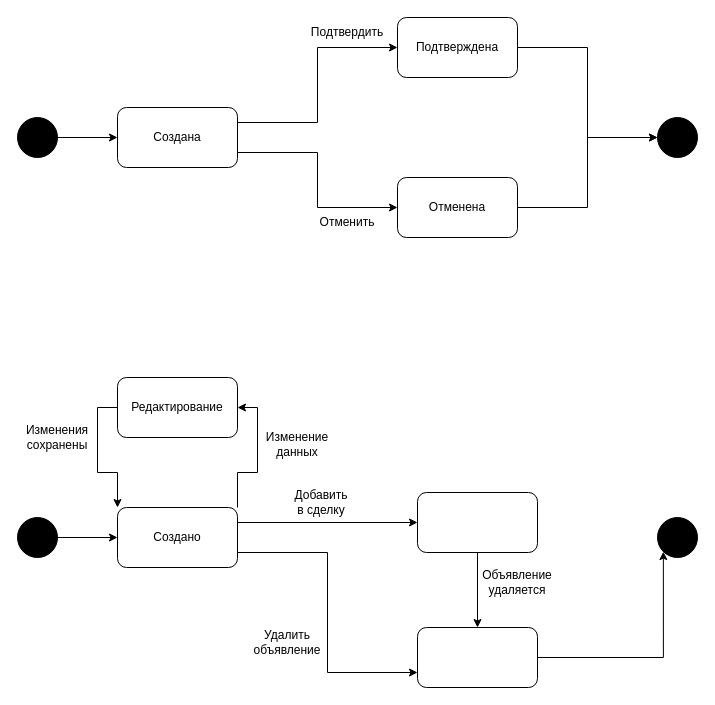
The diagram is 715 pixels wide and 705 high, and some of its shapes have lost their labels. Each missing label, with the box of its shape:
Удалено: (416, 626, 538, 688)
Участвует в сделке: (416, 492, 538, 552)
